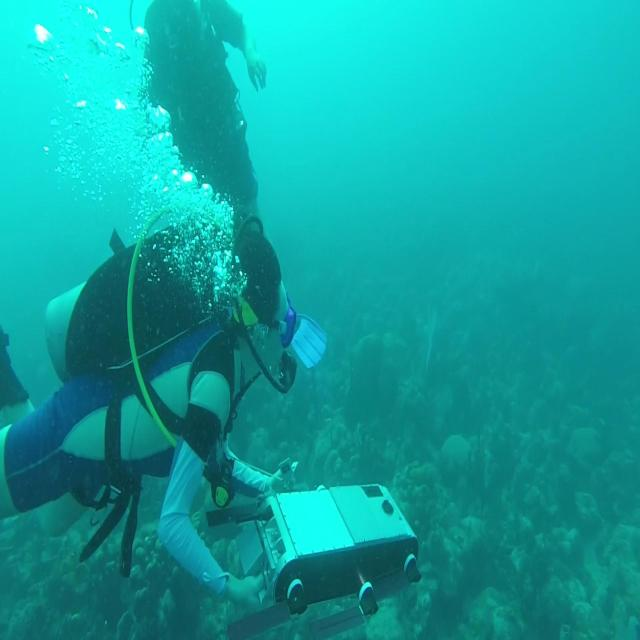human: (0, 212, 326, 610), (120, 4, 327, 379)
